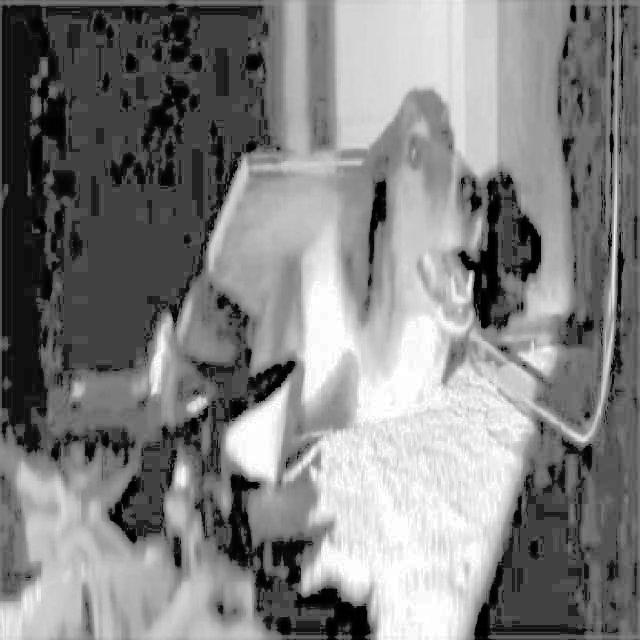Dog: (255, 73, 491, 461)
